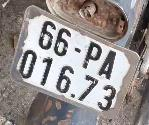0: (13, 45, 41, 85)
1: (35, 54, 57, 90)
3: (92, 82, 123, 116)
6: (33, 16, 59, 57), (50, 62, 77, 99), (51, 24, 75, 60)
7: (74, 70, 102, 107)
A: (94, 45, 122, 85)
P: (78, 37, 107, 77)
